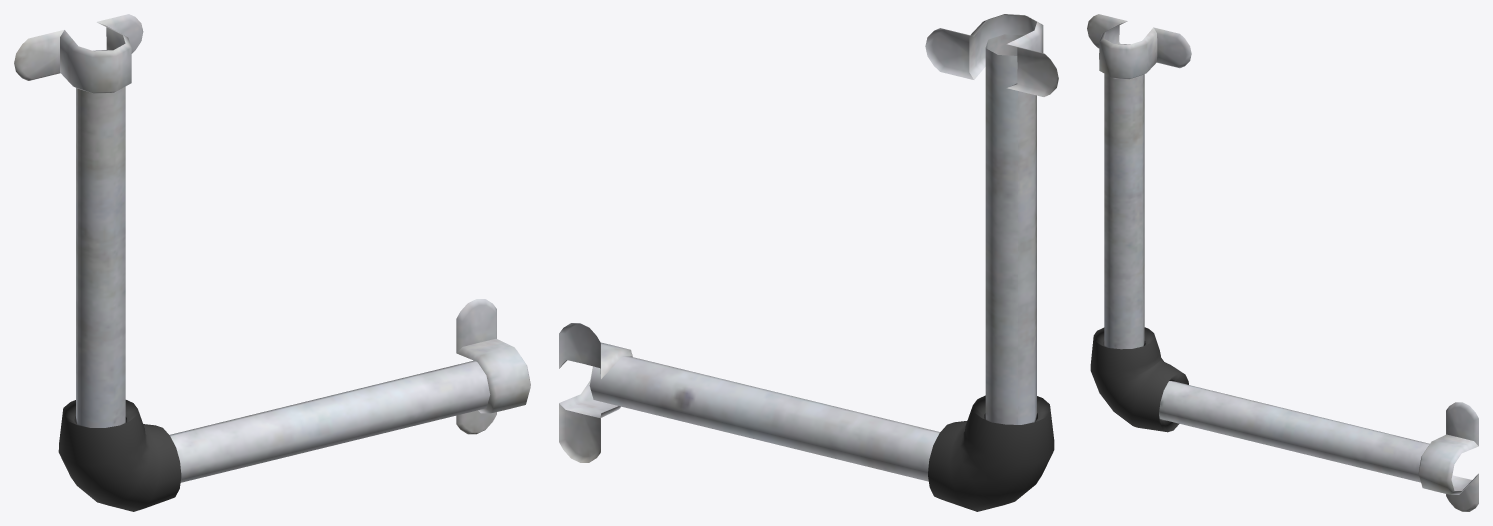
The model's file is SM_Pipe_Corner_01b.glb.
3 renders of one model, left to right at view 1: azimuth 30°, elevation 25°; view 2: azimuth 150°, elevation 25°; view 3: azimuth 330°, elevation 25°, orthographic. The views are drawn at different scales.
Visible parts, largest first — view 1: SM_Pipe_Corner_01b; view 2: SM_Pipe_Corner_01b; view 3: SM_Pipe_Corner_01b.
Boxes of the visible parts, x1,y1,x2,y2 form: SM_Pipe_Corner_01b: (14, 14, 530, 511); SM_Pipe_Corner_01b: (559, 14, 1058, 511); SM_Pipe_Corner_01b: (1087, 14, 1478, 511).
Size of the model in its own units: 0.3047 by 0.3045 by 0.0498.
Materials: 1 (1 with a texture image).
